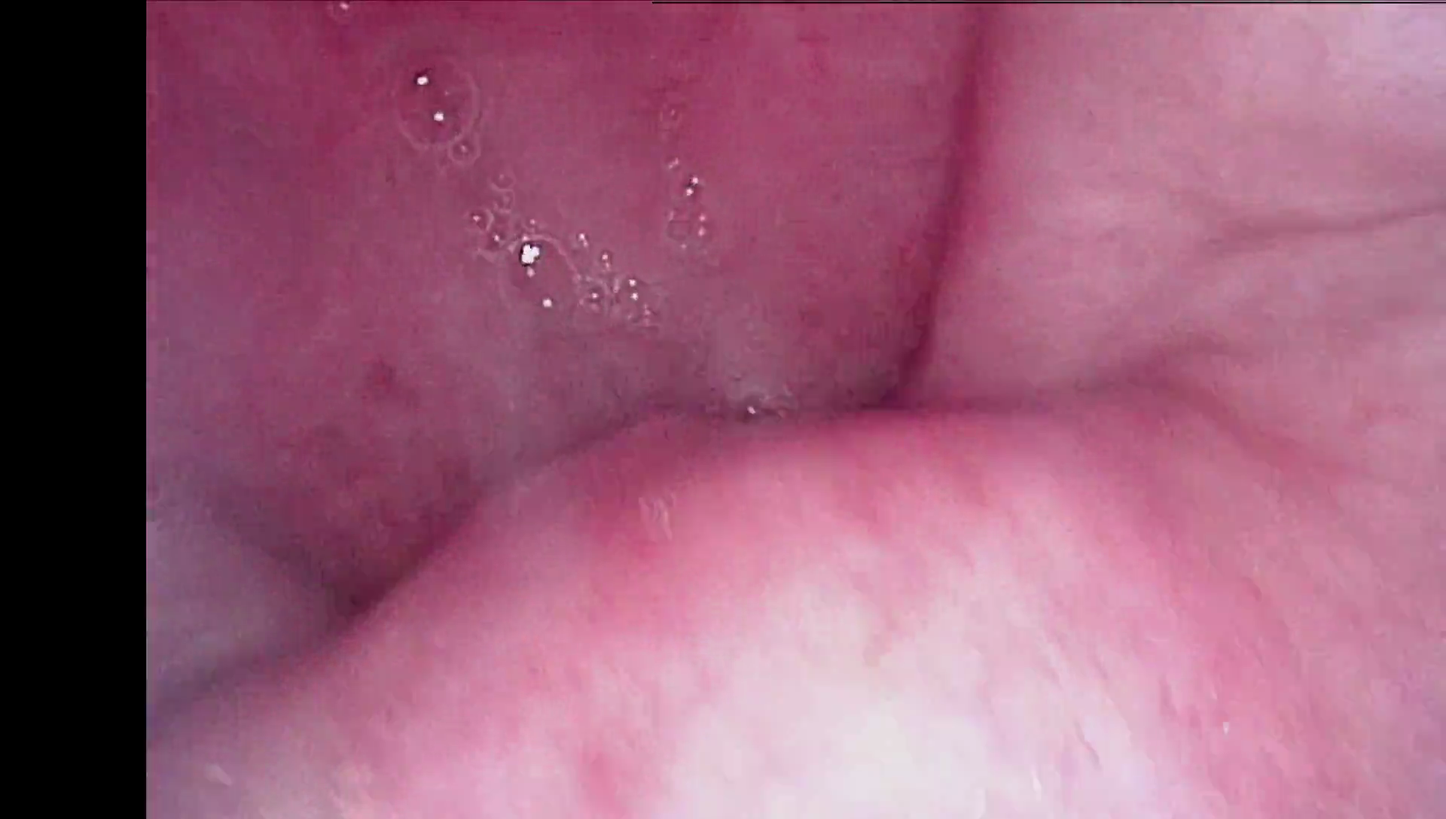close_wall: (518, 497, 1323, 819), (1193, 0, 1446, 151)
